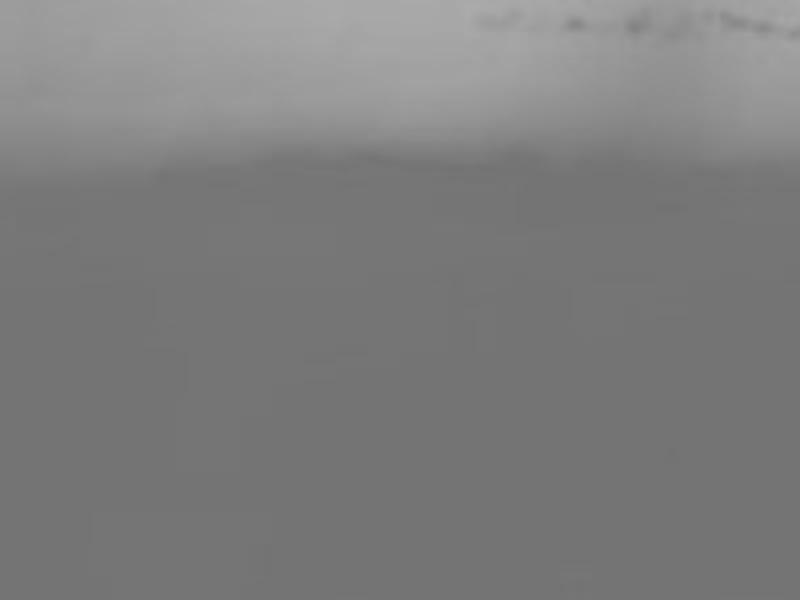defect: (623, 9, 658, 40), (751, 17, 780, 43), (720, 10, 747, 33), (563, 14, 589, 35)
